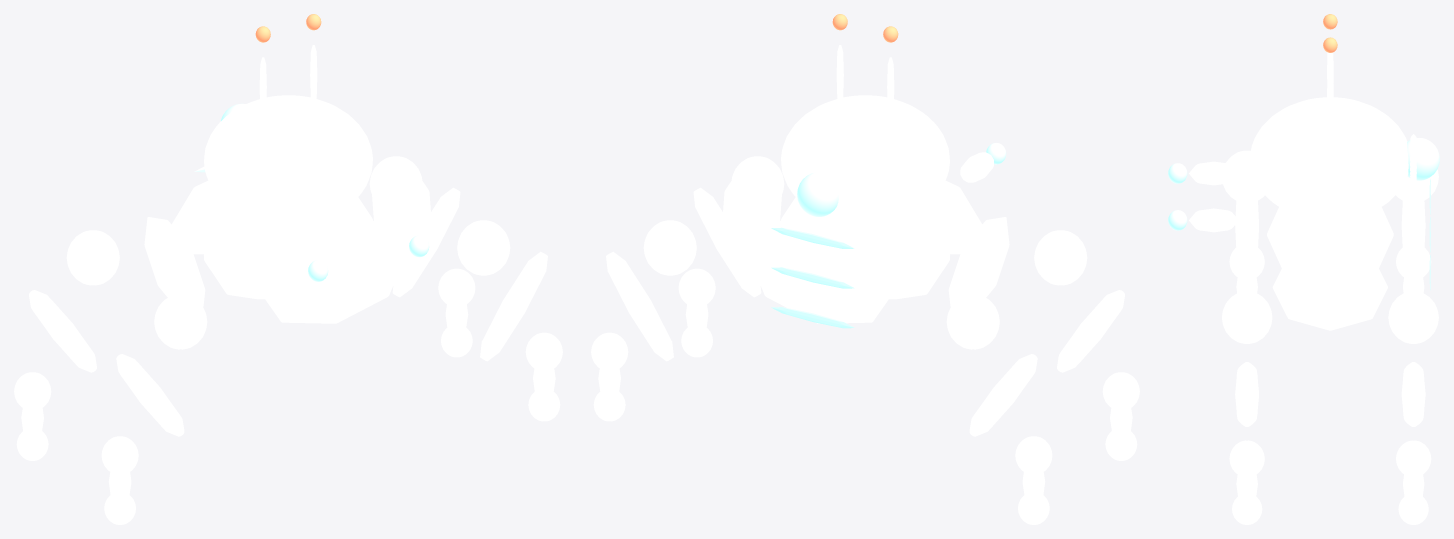
File: v3r2_rogueprocess_v3.glb
The picture shows the model from 3 angles, left to right: view 1: azimuth 30°, elevation 25°; view 2: azimuth 150°, elevation 25°; view 3: azimuth 270°, elevation 25°; orthographic projection. The views are drawn at different scales.
Parts seen in each view (by area): view 1: rp_dome, rp_pl_b, rp_body, rp_pl_r, rp_pl_l, rp_ul_3, rp_hip_2, rp_hip_0, rp_hip_3, rp_ul_2, rp_ul_0, rp_pl_f (+11 smaller); view 2: rp_dome, rp_pl_f, rp_body, rp_pl_r, rp_pl_l, rp_ul_1, rp_hip_0, rp_hip_2, rp_hip_1, rp_ul_0, rp_ul_2, rp_pl_b (+11 smaller); view 3: rp_dome, rp_pl_r, rp_body, rp_hip_1, rp_hip_3, rp_pl_f, rp_pl_b, rp_ul_1, rp_ul_3, rp_kn_3, rp_kn_1, rp_hip_2 (+16 smaller).
Boxes of the visible parts, x1,y1,x2,y2 form: rp_dome: (204, 95, 372, 225); rp_pl_b: (258, 219, 405, 323); rp_body: (203, 197, 372, 299); rp_pl_r: (371, 159, 432, 264); rp_pl_l: (144, 217, 205, 306); rp_ul_3: (480, 251, 547, 361); rp_hip_2: (154, 294, 207, 349); rp_hip_0: (66, 230, 119, 285); rp_hip_3: (457, 220, 510, 275); rp_ul_2: (116, 354, 184, 436); rp_ul_0: (29, 290, 96, 372); rp_pl_f: (171, 181, 223, 254); rp_dome: (781, 95, 949, 225); rp_pl_f: (748, 219, 895, 323); rp_body: (781, 197, 950, 299); rp_pl_r: (721, 159, 782, 264); rp_pl_l: (948, 217, 1009, 306); rp_ul_1: (606, 251, 673, 361); rp_hip_0: (946, 294, 999, 349); rp_hip_2: (1034, 230, 1087, 285); rp_hip_1: (643, 220, 696, 275); rp_ul_0: (969, 354, 1037, 436); rp_ul_2: (1057, 290, 1124, 372); rp_pl_b: (930, 181, 982, 254); rp_dome: (1250, 97, 1408, 219); rp_pl_r: (1272, 244, 1387, 330); rp_body: (1267, 207, 1393, 267); rp_hip_1: (1388, 291, 1438, 343); rp_hip_3: (1222, 291, 1272, 343); rp_pl_f: (1403, 177, 1424, 291); rp_pl_b: (1236, 176, 1257, 291); rp_ul_1: (1401, 362, 1425, 426); rp_ul_3: (1235, 362, 1258, 426); rp_kn_3: (1229, 440, 1264, 477); rp_kn_1: (1396, 440, 1431, 477); rp_hip_2: (1223, 150, 1264, 202).
Size of the model in its own units: 1.81 by 1.59 by 0.9799.
